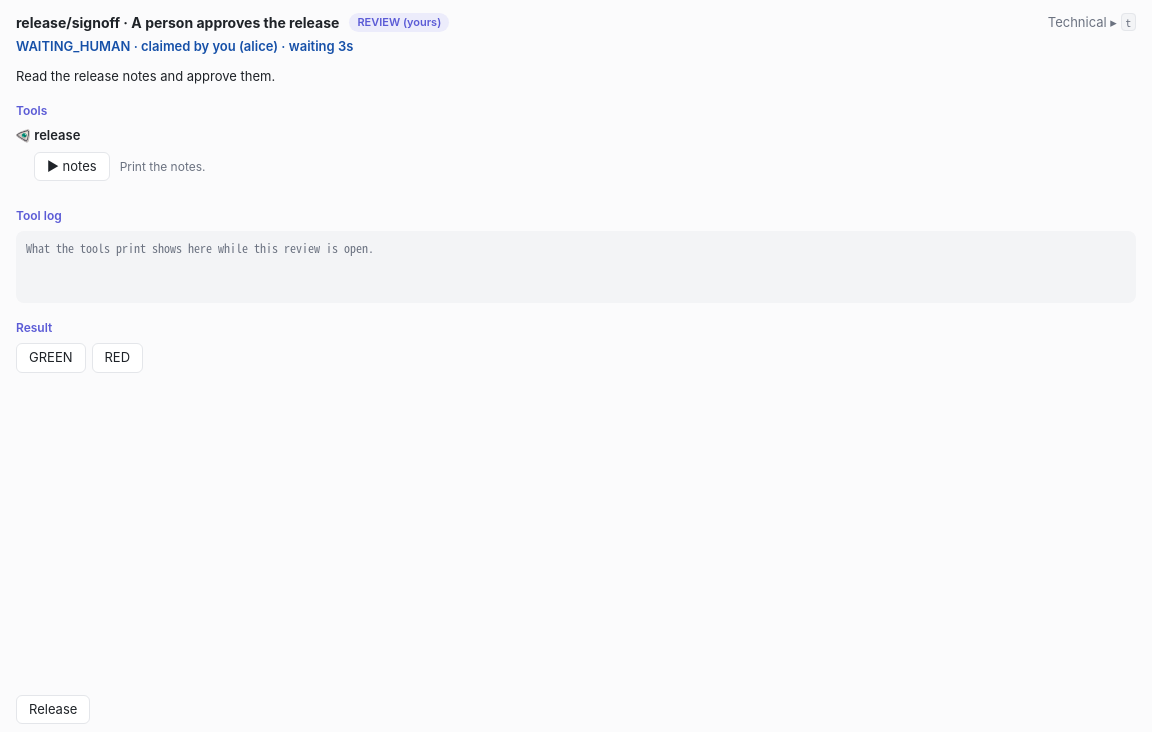
Test case: HumanDetail › hides constants and enters a list one item at a time, added and removed
expect the text "REVIEW (yours)" is shown: met, box [349,13,449,32]
Click the button "RED": x=117, y=358 [92,343,143,372]
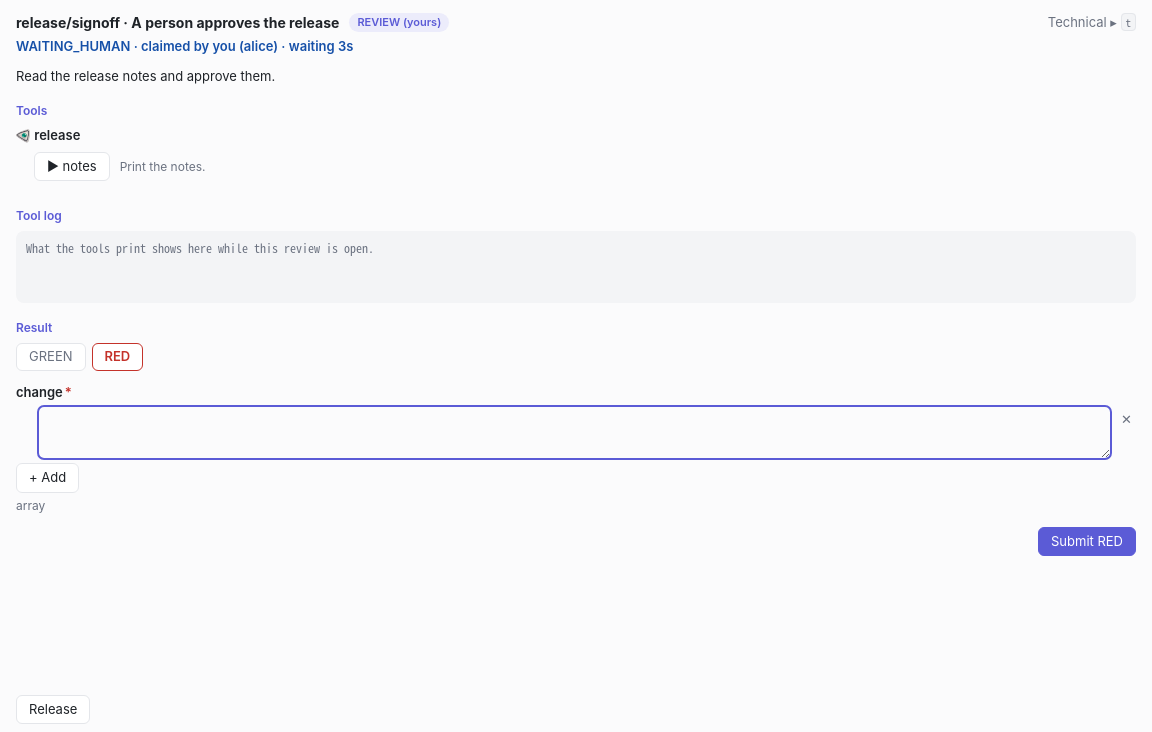
In the text box named "change 1": x=575, y=432 [38,406,1111,459], type "Shorter title"
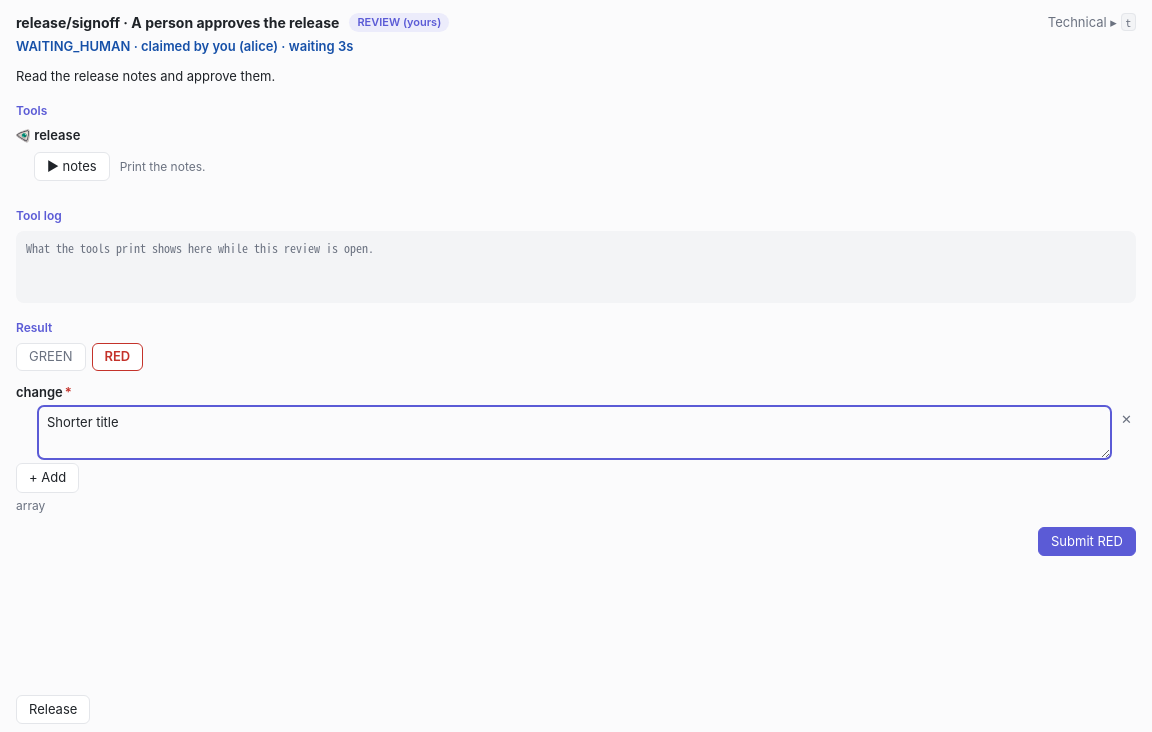
Click the button "+ Add": x=48, y=478 [16,463,79,492]
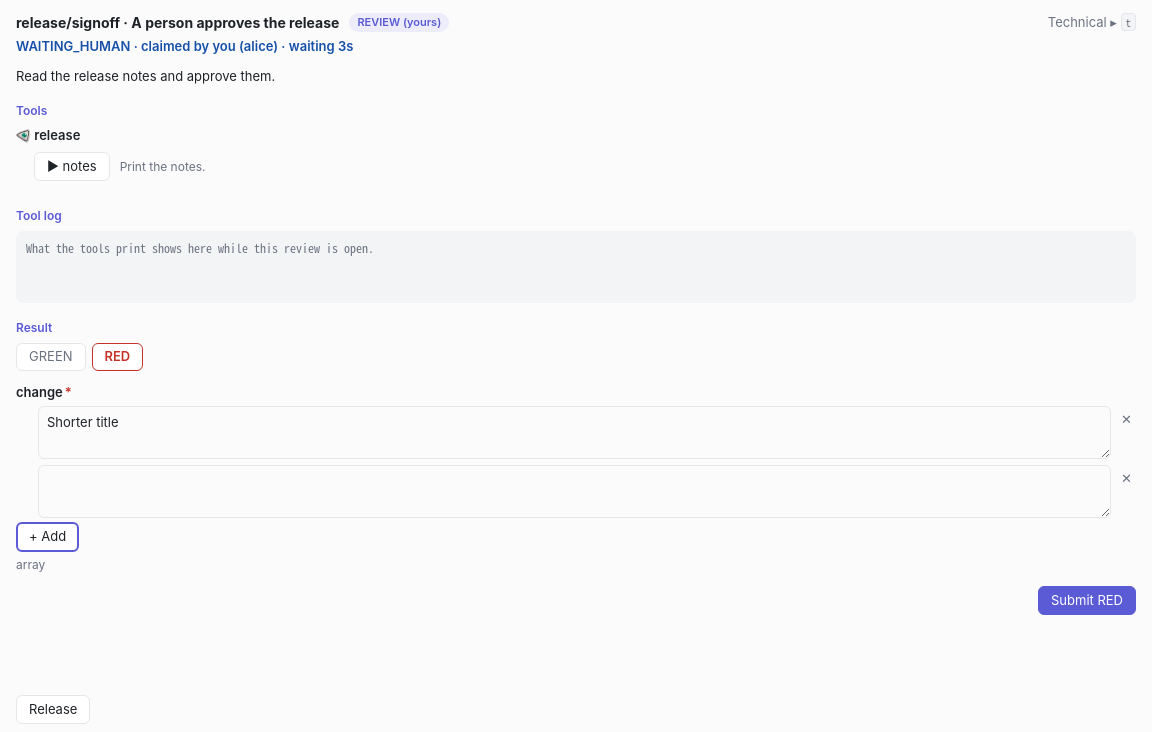
In the text box named "change 2": x=575, y=492 [38,465,1111,518], type "Fix the date"
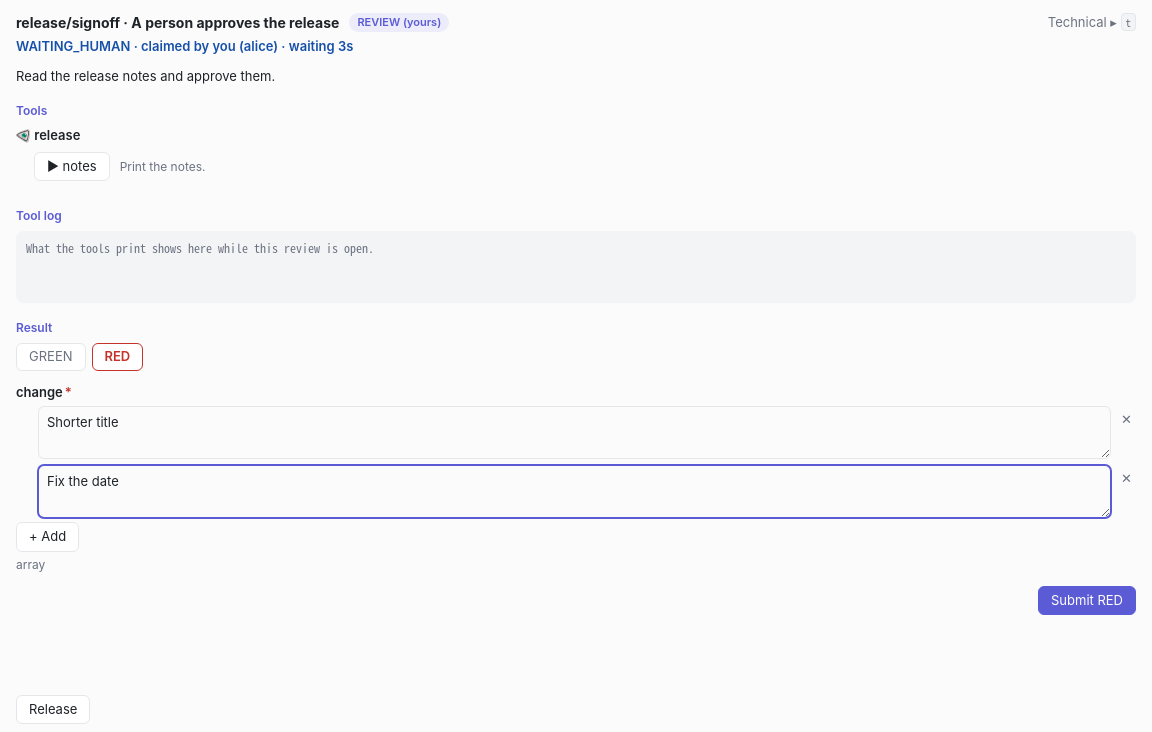
Click the button named "Remove change 1": x=1127, y=420 [1117,406,1136,434]
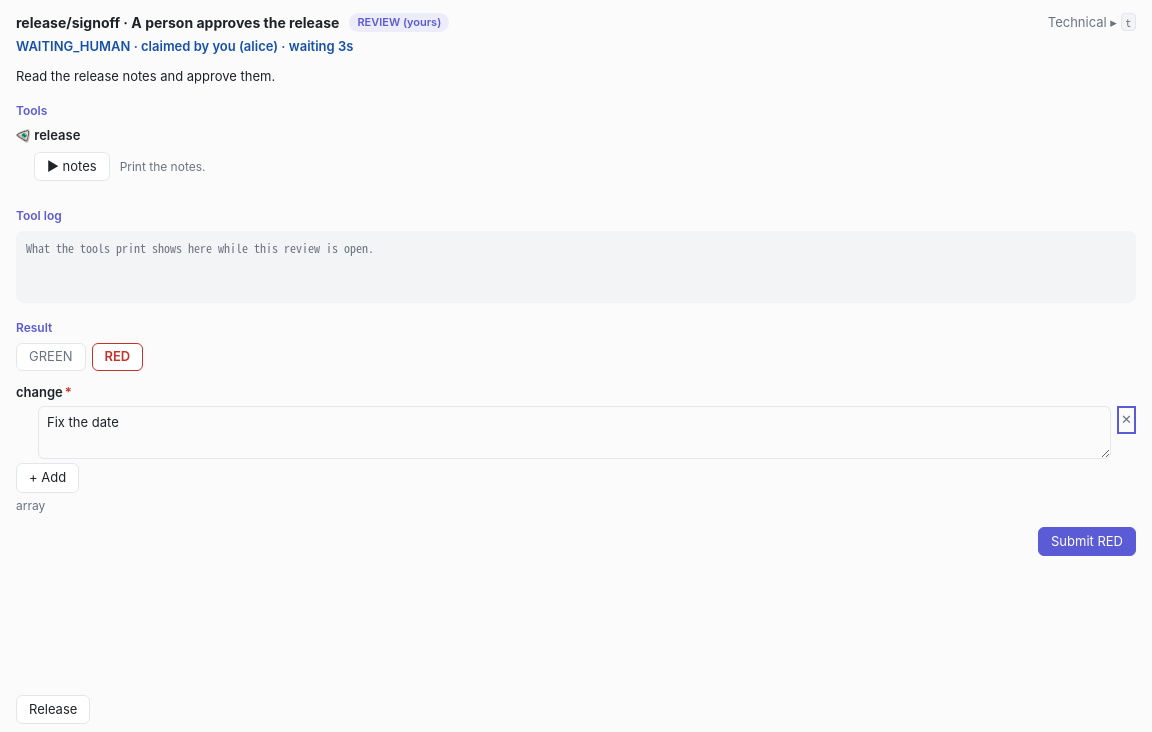
expect the button "Submit RED" is shown: met, box [1038,526,1136,556]
expect the text box named "change 1" holds "Fix the date": met, box [38,406,1111,459]
